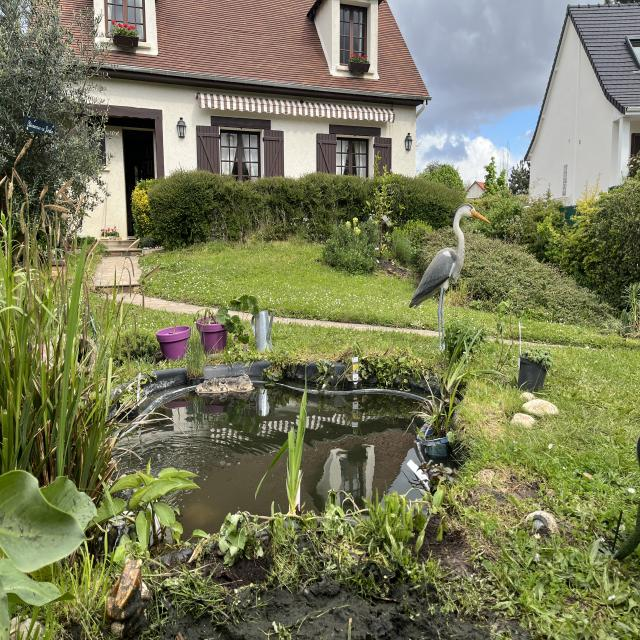Heron: (407, 200, 494, 346)
